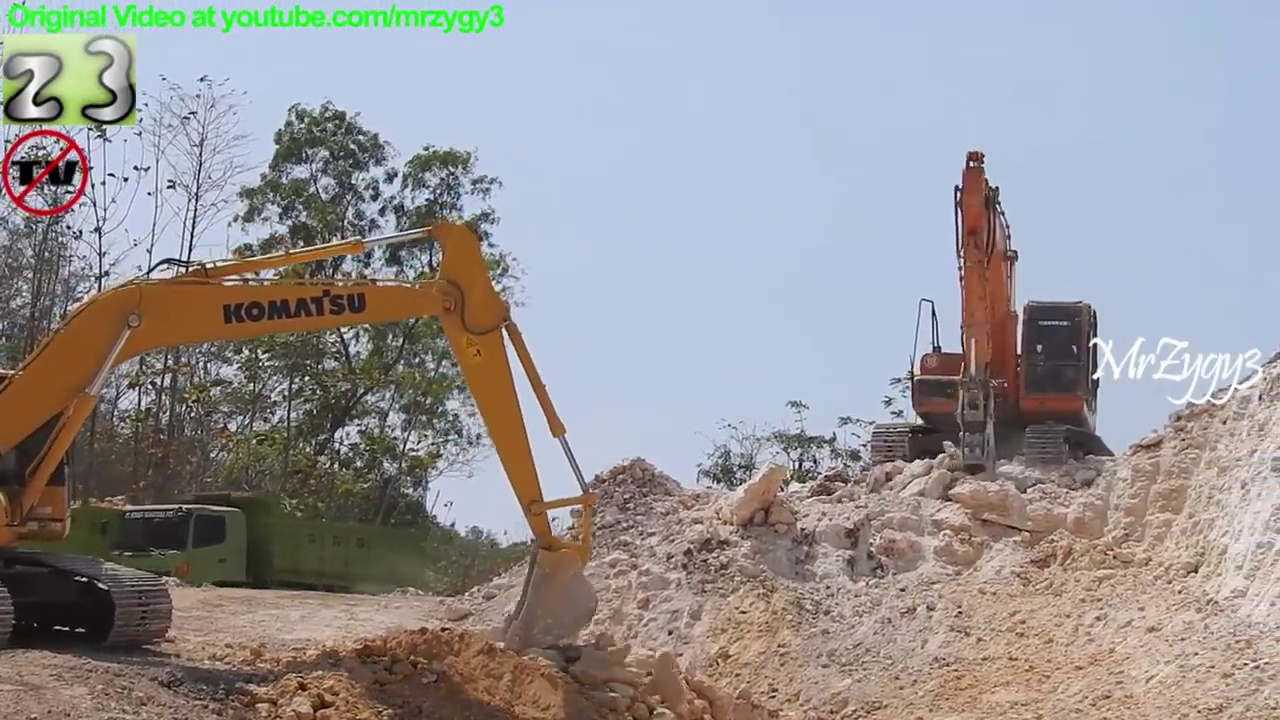excavator: (1, 212, 609, 667), (864, 144, 1130, 507)
truck: (89, 488, 434, 634), (1, 495, 150, 596)
